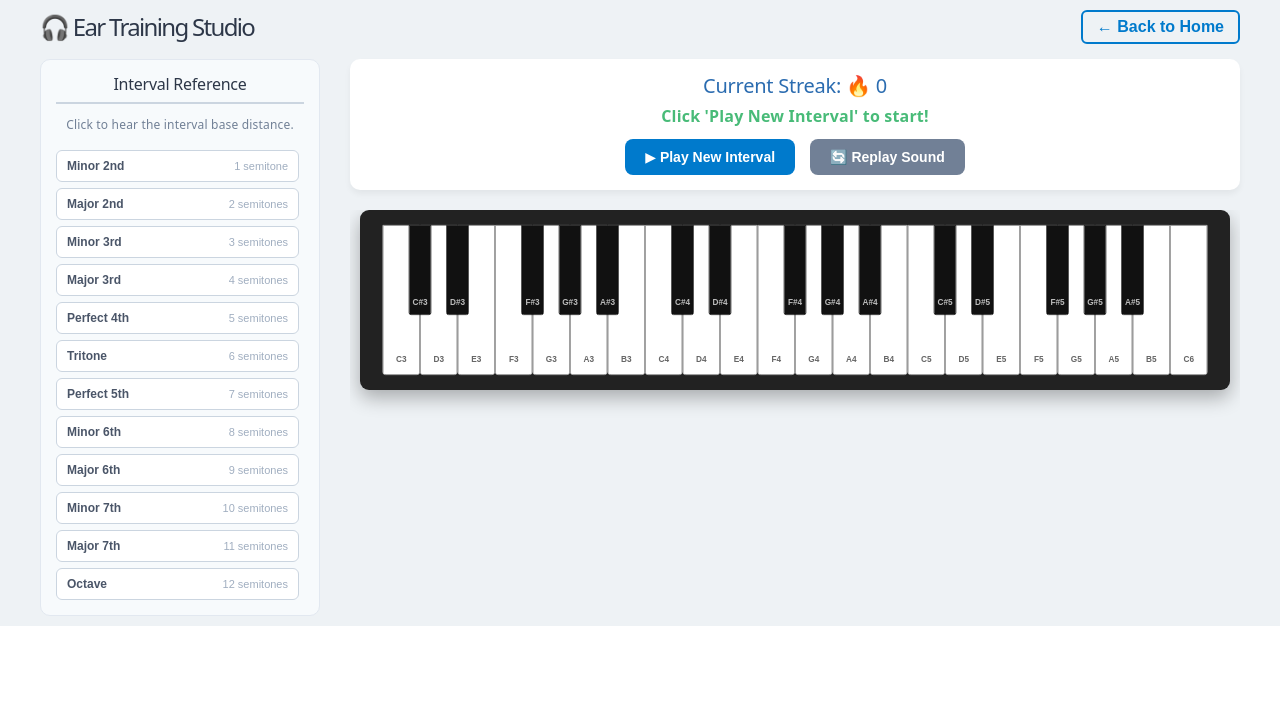
Test: EarTraining Component › should change feedback text when starting a new game
This screenshot has width=1280, height=720.
Check: the text "Click 'Play New Interval' to start!" is shown, box top-left (661, 105), bottom-right (929, 127)
// click the play button
Click the button "▶ Play New Interval".
click(710, 157)  # box top-left (625, 139), bottom-right (795, 175)
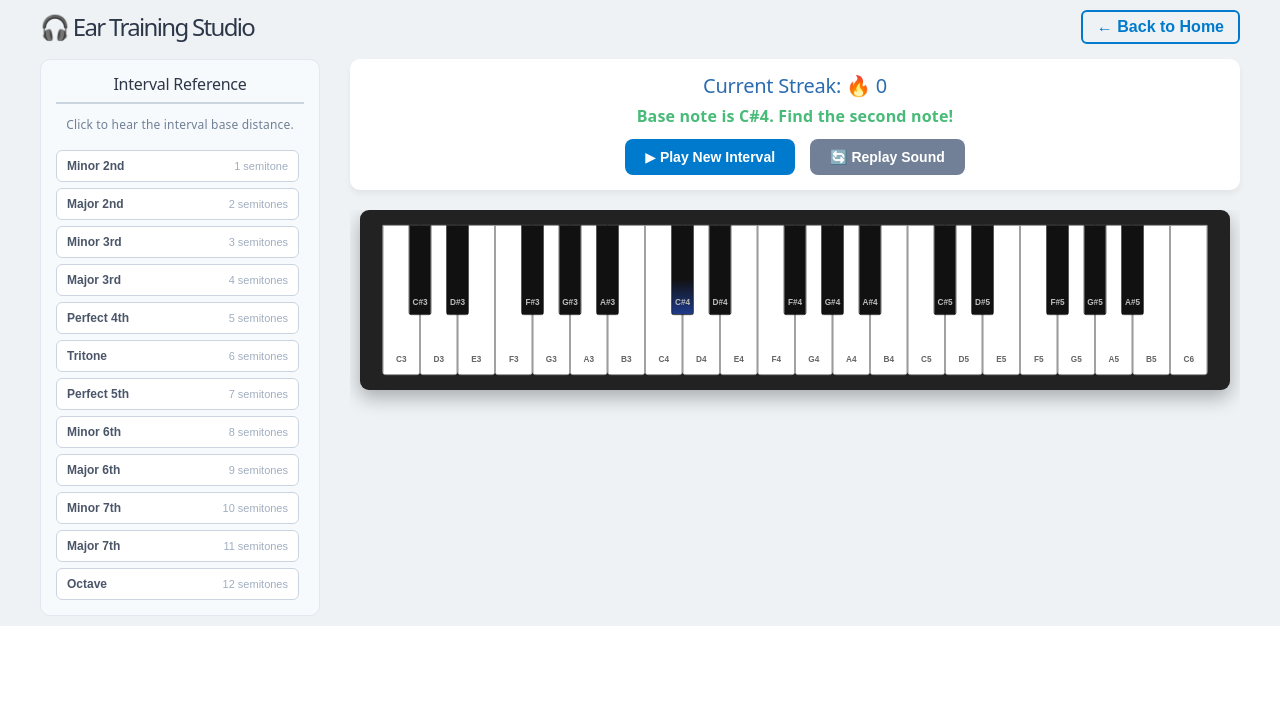
Check: the text "Click 'Play New Interval' to start!" is gone
Check: the text "Base note is C#4. Find the second note!" is shown, box top-left (637, 105), bottom-right (953, 127)
